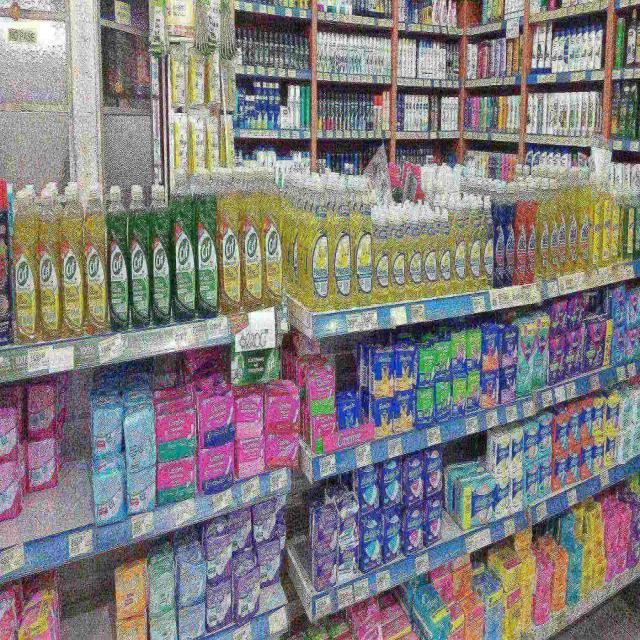ala_conc_azul: (0, 123, 10, 347), (494, 201, 504, 289), (504, 201, 514, 288)
ala_conc_rojo: (515, 201, 527, 287)
cif_conc_botella_verde: (172, 169, 195, 321), (196, 173, 218, 318), (108, 188, 129, 333), (130, 198, 150, 328), (150, 203, 170, 324)
